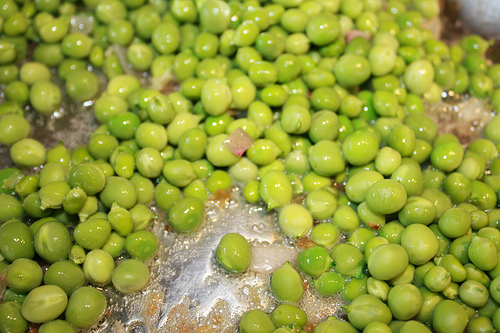boiled peas: (4, 5, 500, 328)
